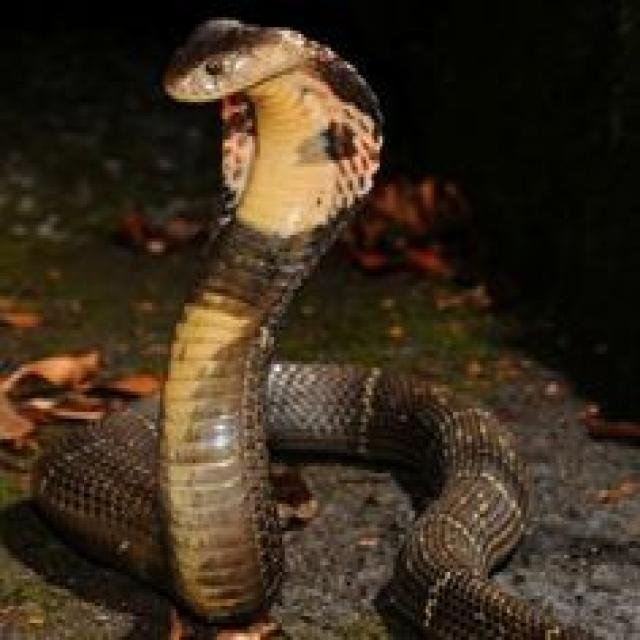Snake: (24, 13, 589, 640)
